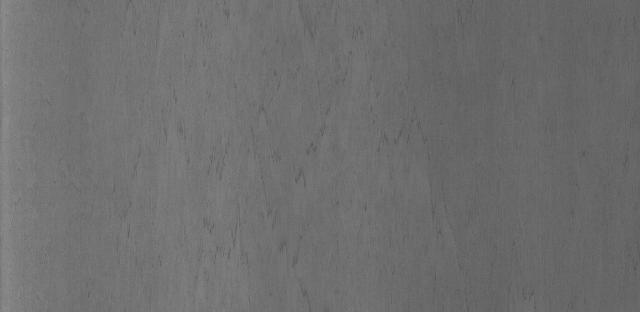silk_spot: (199, 88, 364, 243)
